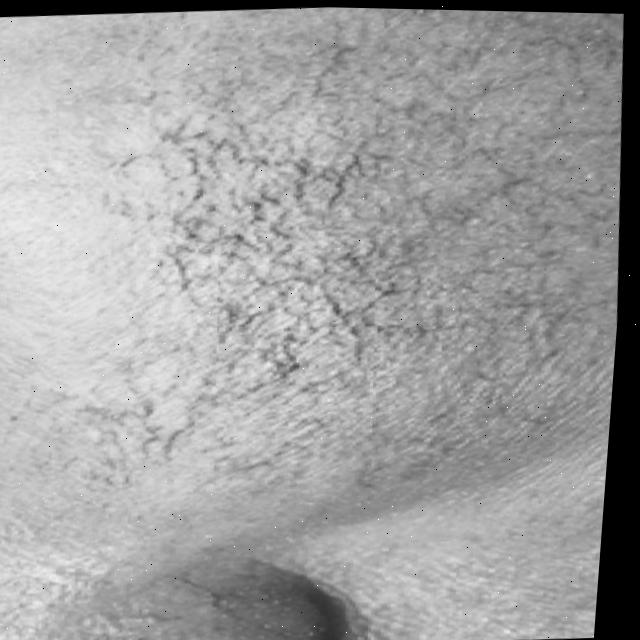Rosacea: (128, 21, 624, 453)
